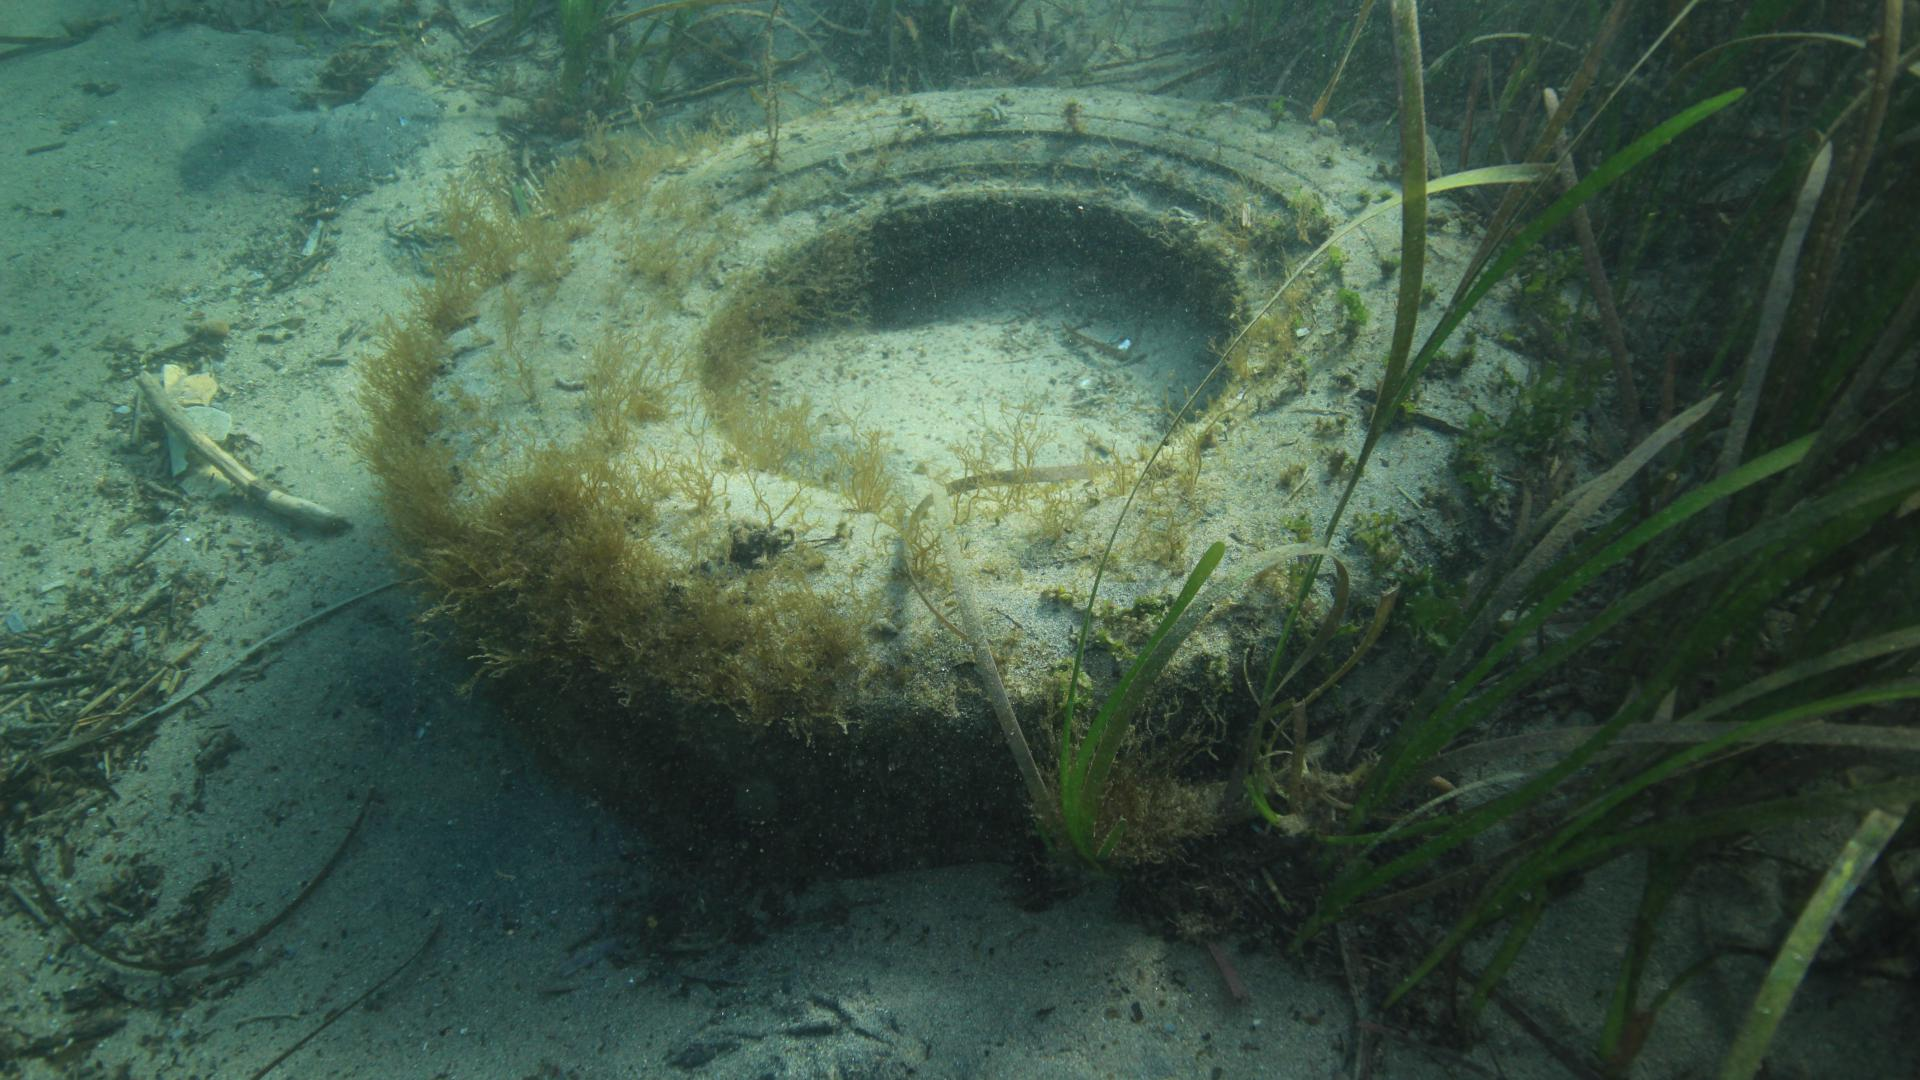tire: (413, 83, 1532, 878)
